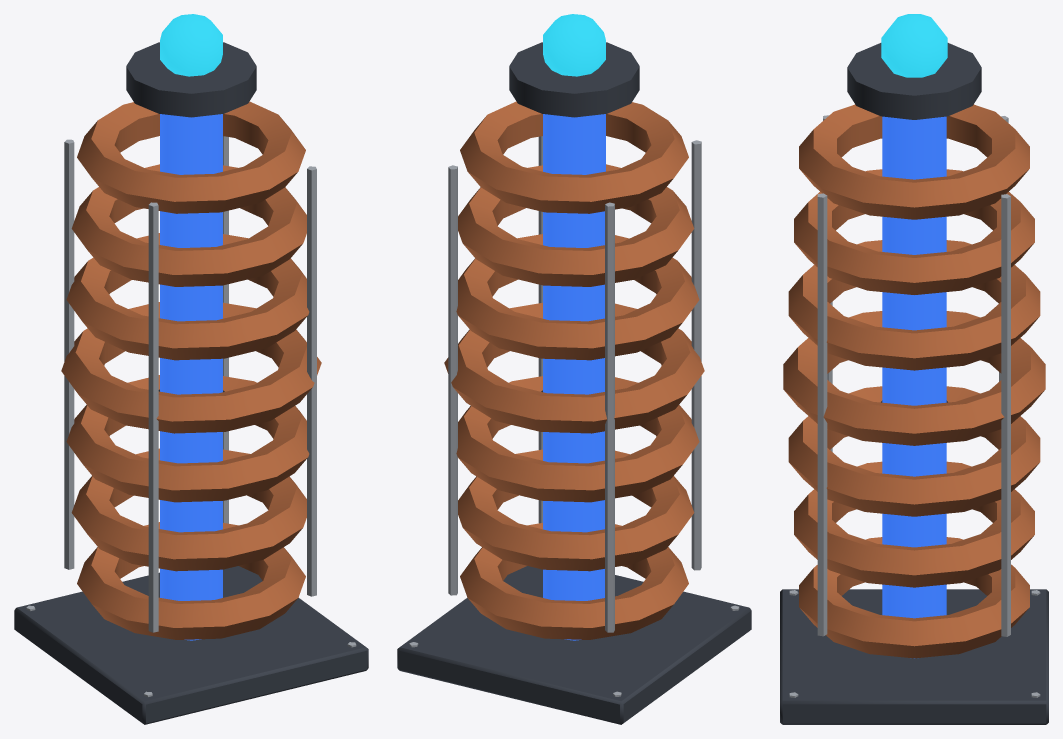
The model's file is coil_warp_coil_stack.glb.
3 views of the same model, side by side, from view 1: azimuth 30°, elevation 25°; view 2: azimuth 150°, elevation 25°; view 3: azimuth 270°, elevation 25° (orthographic). The views are drawn at different scales.
Parts seen in each view (by area): view 1: coil_warp_coil_stack; view 2: coil_warp_coil_stack; view 3: coil_warp_coil_stack.
Part boxes in pixels (x1,y1,x2,y2): coil_warp_coil_stack: (14,14,368,724); coil_warp_coil_stack: (397,14,751,724); coil_warp_coil_stack: (780,14,1048,724).
Bounding box in the file's own units: 1 × 2.68 × 1.
